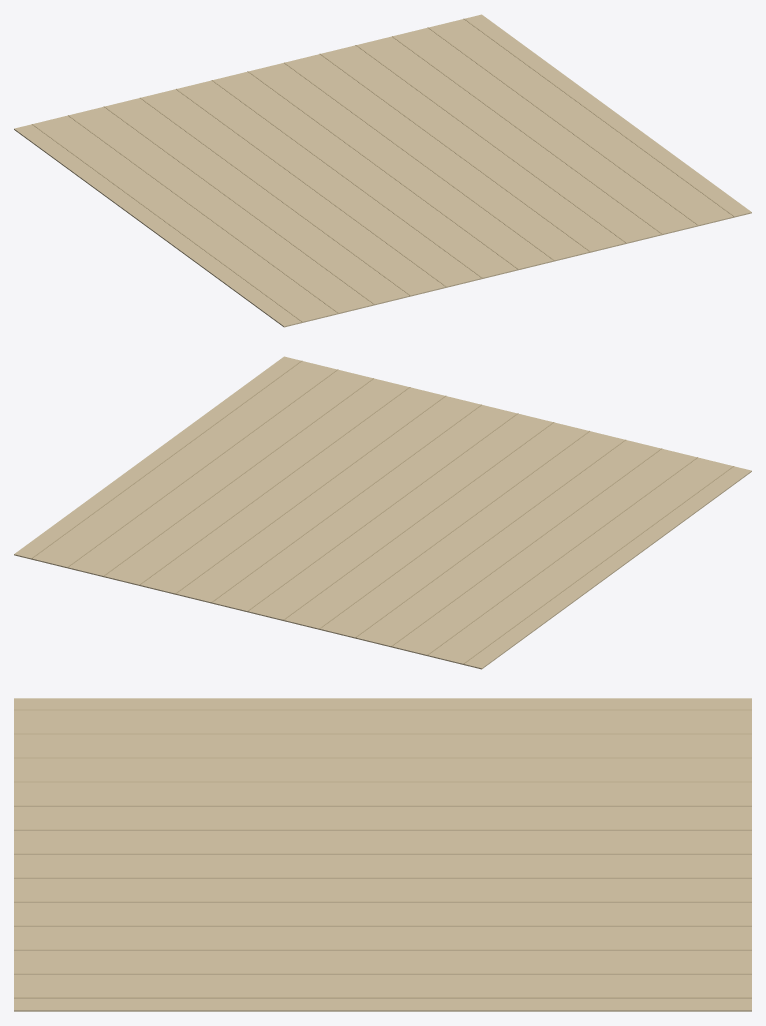
File: Parkour_Plaza.fbx
3 views of the same model, one above another, from view 1: azimuth 30°, elevation 25°; view 2: azimuth 150°, elevation 25°; view 3: azimuth 270°, elevation 25° (orthographic). The views are drawn at different scales.
Parts seen in each view (by area): view 1: Plaza; view 2: Plaza; view 3: Plaza.
Part boxes in pixels (bbox=[...]): Plaza: bbox=[14, 14, 751, 327]; Plaza: bbox=[14, 356, 751, 669]; Plaza: bbox=[14, 698, 751, 1011].
Bounding box in the file's own units: 26 × 0.075 × 26.
